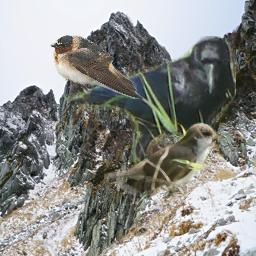Crow: (64, 36, 236, 172)
Cuckoo: (104, 122, 225, 196)
Swallow: (50, 35, 144, 99)
